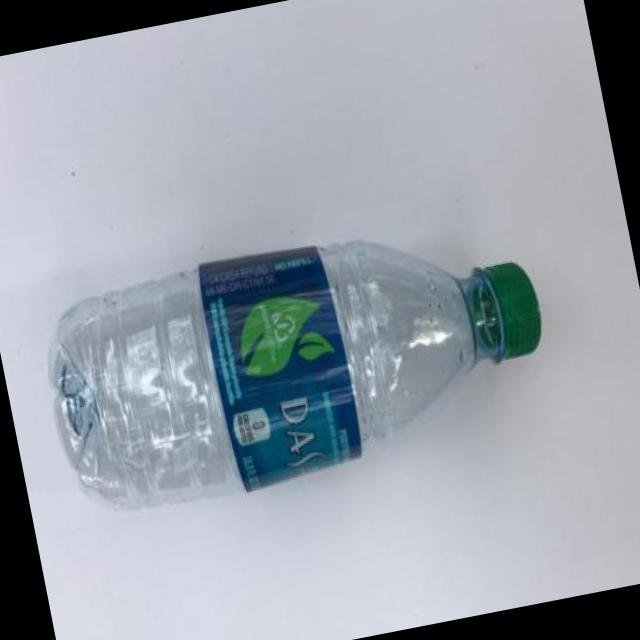plastic_bottle: (30, 200, 564, 528)
